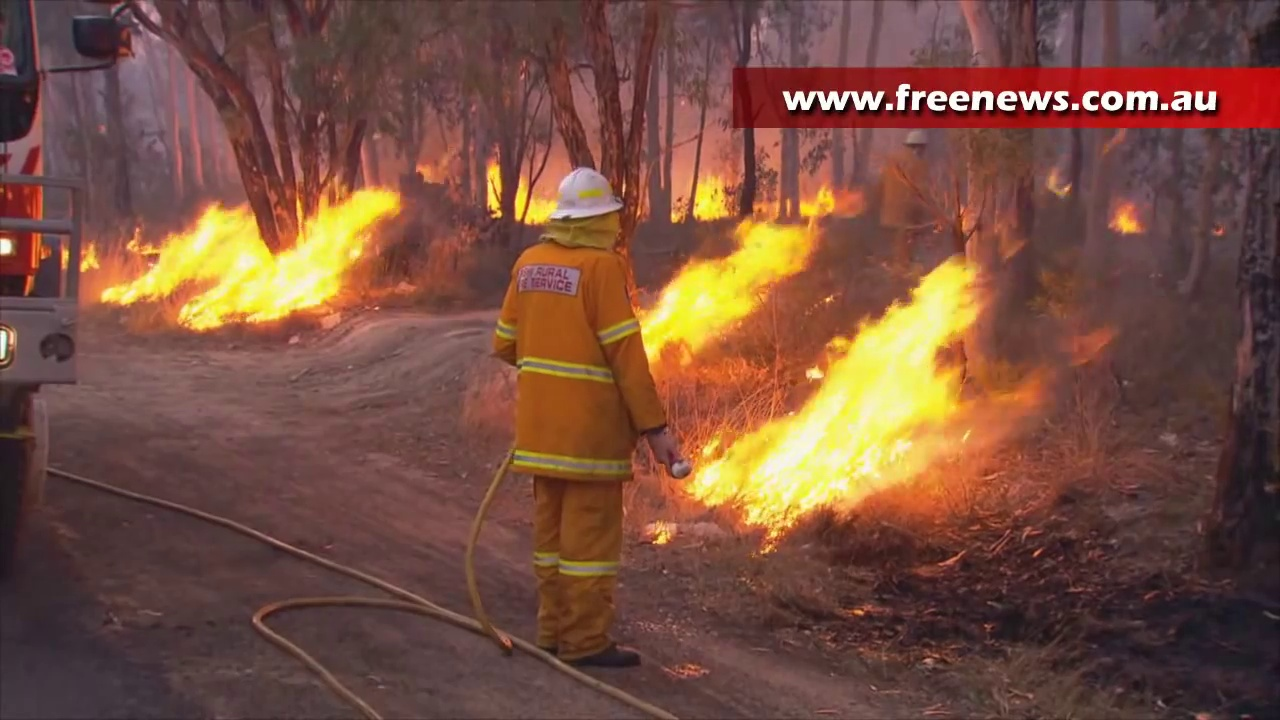fire: (657, 227, 992, 524), (106, 189, 403, 325), (633, 217, 837, 363), (513, 168, 556, 226), (689, 174, 734, 218), (1110, 205, 1134, 234)
